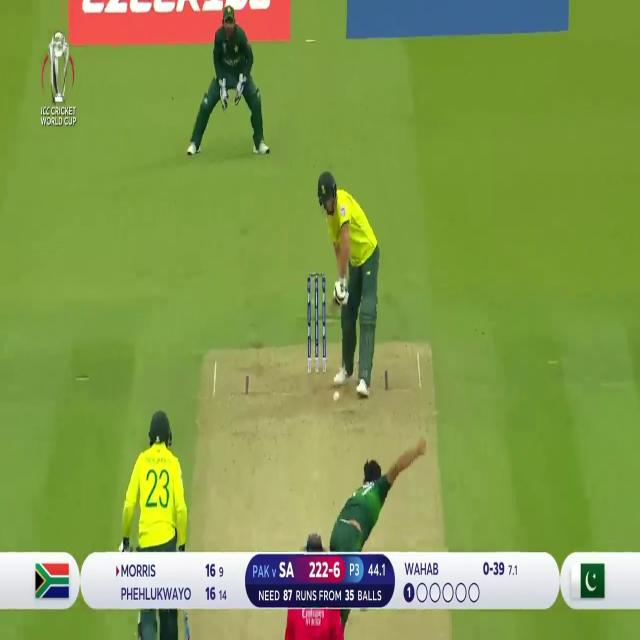ball: (331, 380, 344, 409)
